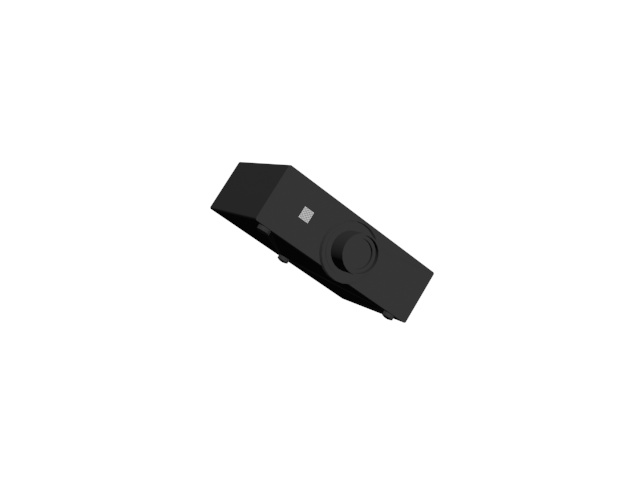projector: (209, 161, 440, 328)
